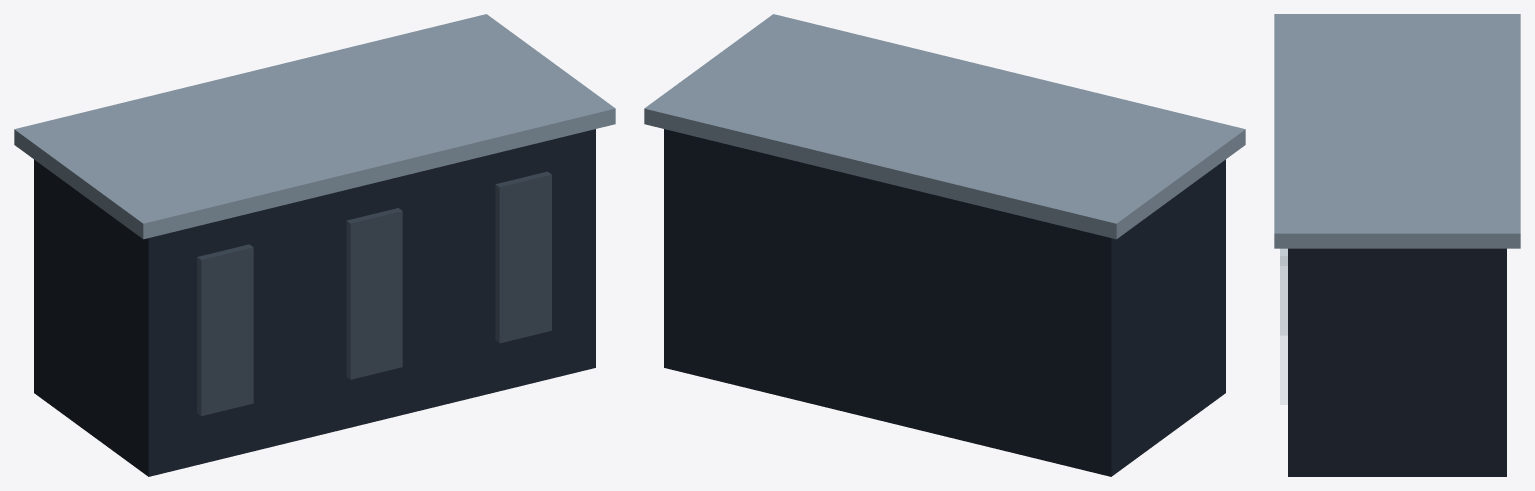
Rendered from hitachienergy-ehouse.glb.
3 renders of one model, left to right at view 1: azimuth 30°, elevation 25°; view 2: azimuth 150°, elevation 25°; view 3: azimuth 270°, elevation 25°, orthographic. The views are drawn at different scales.
Size of the model in its own units: 3.8 by 2.01 by 1.8.
